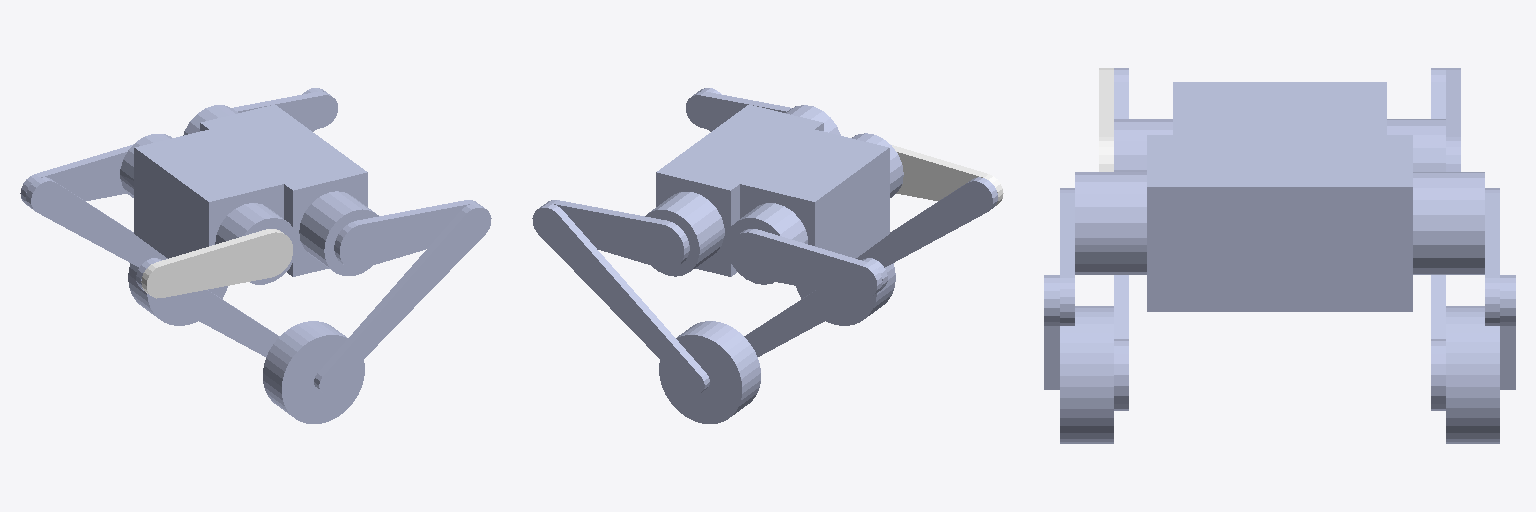
robot.urdf — robot:
<?xml version="1.0" encoding="utf-8"?>
<!-- This URDF was automatically created by SolidWorks to URDF Exporter! Originally created by [author] ([email redacted]) 
     Commit Version: 1.6.0-1-g15f4949  Build Version: 1.6.7594.29634
     For more information, please see http://wiki.ros.org/sw_urdf_exporter -->
<robot
  name="robot">
  <link
    name="base_link">
    <inertial>
      <origin
        xyz="0 0 0"
        rpy="0 0 0" />
      <mass
        value="4.5635" />
      <inertia
        ixx="0.028098"
        ixy="7.1725E-20"
        ixz="-7.933E-17"
        iyy="0.037678"
        iyz="1.8054E-19"
        izz="0.016948" />
    </inertial>
    <visual>
      <origin
        xyz="0 0 0"
        rpy="0 0 0" />
      <geometry>
        <mesh
          filename="package://robot/meshes/base_link.STL" />
      </geometry>
      <material
        name="">
        <color
          rgba="0.79216 0.81961 0.93333 1" />
      </material>
    </visual>
    <collision>
      <origin
        xyz="0 0 0"
        rpy="0 0 0" />
      <geometry>
        <mesh
          filename="package://robot/meshes/base_link.STL" />
      </geometry>
    </collision>
  </link>
  <link
    name="hip2thigh_lf">
    <inertial>
      <origin
        xyz="6.1801E-18 -0.061407 -0.00575"
        rpy="0 0 0" />
      <mass
        value="0.06" />
      <inertia
        ixx="0.00015591"
        ixy="2.9461E-21"
        ixz="-9.3505E-21"
        iyy="1.1351E-05"
        iyz="-7.8953E-19"
        izz="0.00016594" />
    </inertial>
    <visual>
      <origin
        xyz="0 0 0"
        rpy="0 0 0" />
      <geometry>
        <mesh
          filename="package://robot/meshes/hip2thigh_lf.STL" />
      </geometry>
      <material
        name="">
        <color
          rgba="0.79216 0.81961 0.93333 1" />
      </material>
    </visual>
    <collision>
      <origin
        xyz="0 0 0"
        rpy="0 0 0" />
      <geometry>
        <mesh
          filename="package://robot/meshes/hip2thigh_lf.STL" />
      </geometry>
    </collision>
  </link>
  <joint
    name="hip_lf"
    type="continuous">
    <origin
      xyz="0.042425 0.157 0"
      rpy="1.5708 -1.5708 0" />
    <parent
      link="base_link" />
    <child
      link="hip2thigh_lf" />
    <axis
      xyz="0 0 -1" />
  </joint>
  <link
    name="thigh2leg_lf">
    <inertial>
      <origin
        xyz="0 -0.10565 -0.00575"
        rpy="0 0 0" />
      <mass
        value="0.0763" />
      <inertia
        ixx="0.00043722"
        ixy="1.6941E-21"
        ixz="1.9507E-20"
        iyy="7.4436E-06"
        iyz="1.4601E-18"
        izz="0.00044298" />
    </inertial>
    <visual>
      <origin
        xyz="0 0 0"
        rpy="0 0 0" />
      <geometry>
        <mesh
          filename="package://robot/meshes/thigh2leg_lf.STL" />
      </geometry>
      <material
        name="">
        <color
          rgba="0.79216 0.81961 0.93333 1" />
      </material>
    </visual>
    <collision>
      <origin
        xyz="0 0 0"
        rpy="0 0 0" />
      <geometry>
        <mesh
          filename="package://robot/meshes/thigh2leg_lf.STL" />
      </geometry>
    </collision>
  </link>
  <joint
    name="knee_lf"
    type="continuous">
    <origin
      xyz="0 -0.14 -0.0115"
      rpy="0 0 -2.4675" />
    <parent
      link="hip2thigh_lf" />
    <child
      link="thigh2leg_lf" />
    <axis
      xyz="0 0 1" />
  </joint>
  <link
    name="leg2wheel_lf">
    <inertial>
      <origin
        xyz="6.4185E-17 -8.3267E-17 0.02075"
        rpy="0 0 0" />
      <mass
        value="0.52195" />
      <inertia
        ixx="0.00044145"
        ixy="-1.6941E-21"
        ixz="2.0747E-18"
        iyy="0.00044145"
        iyz="-3.3823E-20"
        izz="0.00073308" />
    </inertial>
    <visual>
      <origin
        xyz="0 0 0"
        rpy="0 0 0" />
      <geometry>
        <mesh
          filename="package://robot/meshes/leg2wheel_lf.STL" />
      </geometry>
      <material
        name="">
        <color
          rgba="0.79216 0.81961 0.93333 1" />
      </material>
    </visual>
    <collision>
      <origin
        xyz="0 0 0"
        rpy="0 0 0" />
      <geometry>
        <mesh
          filename="package://robot/meshes/leg2wheel_lf.STL" />
      </geometry>
    </collision>
  </link>
  <joint
    name="foot_lf"
    type="continuous">
    <origin
      xyz="0 -0.24 0"
      rpy="0 0 0.82738" />
    <parent
      link="thigh2leg_lf" />
    <child
      link="leg2wheel_lf" />
    <axis
      xyz="0 0 1" />
  </joint>
  <link
    name="hip2thigh_lb">
    <inertial>
      <origin
        xyz="-2.22041654777272E-18 -0.061407466158819 -0.0057500000000007"
        rpy="0 0 0" />
      <mass
        value="0.0539995474696858" />
      <inertia
        ixx="0.000140314771946862"
        ixy="-7.43235680079296E-21"
        ixz="6.14097015851312E-21"
        iyy="1.02160131007346E-05"
        iyz="6.95243980379891E-19"
        izz="0.000149340545022119" />
    </inertial>
    <visual>
      <origin
        xyz="0 0 0"
        rpy="0 0 0" />
      <geometry>
        <mesh
          filename="package://robot/meshes/hip2thigh_lb.STL" />
      </geometry>
      <material
        name="">
        <color
          rgba="0.792156862745098 0.819607843137255 0.933333333333333 1" />
      </material>
    </visual>
    <collision>
      <origin
        xyz="0 0 0"
        rpy="0 0 0" />
      <geometry>
        <mesh
          filename="package://robot/meshes/hip2thigh_lb.STL" />
      </geometry>
    </collision>
  </link>
  <joint
    name="hip_lb"
    type="continuous">
    <origin
      xyz="-0.052575 0.127 0"
      rpy="1.5708 1.5708 0" />
    <parent
      link="base_link" />
    <child
      link="hip2thigh_lb" />
    <axis
      xyz="0 0 -1" />
  </joint>
  <link
    name="thigh2leg_lb">
    <inertial>
      <origin
        xyz="2.77555756156289E-17 -0.126725289376484 0.00574999999999845"
        rpy="0 0 0" />
      <mass
        value="0.0750000161747868" />
      <inertia
        ixx="0.000553987900915235"
        ixy="-5.84452733605467E-20"
        ixz="1.65199332220617E-20"
        iyy="9.43756802822454E-06"
        iyz="-3.30067461314353E-18"
        izz="0.00056177234358694" />
    </inertial>
    <visual>
      <origin
        xyz="0 0 0"
        rpy="0 0 0" />
      <geometry>
        <mesh
          filename="package://robot/meshes/thigh2leg_lb.STL" />
      </geometry>
      <material
        name="">
        <color
          rgba="0.792156862745098 0.819607843137255 0.933333333333333 1" />
      </material>
    </visual>
    <collision>
      <origin
        xyz="0 0 0"
        rpy="0 0 0" />
      <geometry>
        <mesh
          filename="package://robot/meshes/thigh2leg_lb.STL" />
      </geometry>
    </collision>
  </link>
  <joint
    name="knee_lb"
    type="continuous">
    <origin
      xyz="0 -0.14 0"
      rpy="0 0 2.46746214692248" />
    <parent
      link="hip2thigh_lb" />
    <child
      link="thigh2leg_lb" />
    <axis
      xyz="0 0 1" />
  </joint>
  <link
    name="leg2wheel_lb">
    <inertial>
      <origin
        xyz="-1.15359111152458E-16 -5.55111512312578E-17 -0.0207500000000007"
        rpy="0 0 0" />
      <mass
        value="0.521949966745835" />
      <inertia
        ixx="0.000441450058332931"
        ixy="-1.6940658945086E-21"
        ixz="2.07466425242616E-18"
        iyy="0.000441450058332931"
        iyz="-3.38231691806901E-20"
        izz="0.000733078728294525" />
    </inertial>
    <visual>
      <origin
        xyz="0 0 0"
        rpy="0 0 0" />
      <geometry>
        <mesh
          filename="package://robot/meshes/leg2wheel_lb.STL" />
      </geometry>
      <material
        name="">
        <color
          rgba="0.792156862745098 0.819607843137255 0.933333333333333 1" />
      </material>
    </visual>
    <collision>
      <origin
        xyz="0 0 0"
        rpy="0 0 0" />
      <geometry>
        <mesh
          filename="package://robot/meshes/leg2wheel_lb.STL" />
      </geometry>
    </collision>
  </link>
  <joint
    name="foot_lb"
    type="continuous">
    <origin
      xyz="0 -0.24 0"
      rpy="0 0 -0.965954301349358" />
    <parent
      link="thigh2leg_lb" />
    <child
      link="leg2wheel_lb" />
    <axis
      xyz="0 0 1" />
  </joint>
  <link
    name="hip2thigh_rf">
    <inertial>
      <origin
        xyz="3.85525815338172E-18 -0.061407466158819 0.00575000000000089"
        rpy="0 0 0" />
      <mass
        value="0.0599999613849593" />
      <inertia
        ixx="0.000155906508351339"
        ixy="9.73323749888728E-21"
        ixz="3.73574741794094E-24"
        iyy="1.13512134874171E-05"
        iyz="-1.08504933903155E-18"
        izz="0.000165935222689896" />
    </inertial>
    <visual>
      <origin
        xyz="0 0 0"
        rpy="0 0 0" />
      <geometry>
        <mesh
          filename="package://robot/meshes/hip2thigh_rf.STL" />
      </geometry>
      <material
        name="">
        <color
          rgba="0.792156862745098 0.819607843137255 0.933333333333333 1" />
      </material>
    </visual>
    <collision>
      <origin
        xyz="0 0 0"
        rpy="0 0 0" />
      <geometry>
        <mesh
          filename="package://robot/meshes/hip2thigh_rf.STL" />
      </geometry>
    </collision>
  </link>
  <joint
    name="hip_rf"
    type="continuous">
    <origin
      xyz="0.042425 -0.157 0"
      rpy="1.5708 -1.5708 0" />
    <parent
      link="base_link" />
    <child
      link="hip2thigh_rf" />
    <axis
      xyz="0 0 1" />
  </joint>
  <link
    name="thigh2leg_rf">
    <inertial>
      <origin
        xyz="4.16333634234434E-17 -0.105647585166419 0.00575000000000225"
        rpy="0 0 0" />
      <mass
        value="0.0763000411167858" />
      <inertia
        ixx="0.000437218386664754"
        ixy="-5.84452733605467E-20"
        ixz="2.47571227334978E-20"
        iyy="7.44363321133752E-06"
        iyz="2.37301864809742E-18"
        izz="0.000442980239803142" />
    </inertial>
    <visual>
      <origin
        xyz="0 0 0"
        rpy="0 0 0" />
      <geometry>
        <mesh
          filename="package://robot/meshes/thigh2leg_rf.STL" />
      </geometry>
      <material
        name="">
        <color
          rgba="0.792156862745098 0.819607843137255 0.933333333333333 1" />
      </material>
    </visual>
    <collision>
      <origin
        xyz="0 0 0"
        rpy="0 0 0" />
      <geometry>
        <mesh
          filename="package://robot/meshes/thigh2leg_rf.STL" />
      </geometry>
    </collision>
  </link>
  <joint
    name="knee_rf"
    type="continuous">
    <origin
      xyz="0 -0.14 0.0114999999999986"
      rpy="0 0 -2.46746214692248" />
    <parent
      link="hip2thigh_rf" />
    <child
      link="thigh2leg_rf" />
    <axis
      xyz="0 0 1" />
  </joint>
  <link
    name="leg2wheel_rf">
    <inertial>
      <origin
        xyz="5.55111512312578E-17 -1.2490009027033E-16 -0.0207499999999983"
        rpy="0 0 0" />
      <mass
        value="0.521949966745835" />
      <inertia
        ixx="0.00044145005833293"
        ixy="-6.7762635780344E-20"
        ixz="-9.00265480038554E-19"
        iyy="0.00044145005833293"
        iyz="1.86202171434693E-18"
        izz="0.000733078728294525" />
    </inertial>
    <visual>
      <origin
        xyz="0 0 0"
        rpy="0 0 0" />
      <geometry>
        <mesh
          filename="package://robot/meshes/leg2wheel_rf.STL" />
      </geometry>
      <material
        name="">
        <color
          rgba="0.792156862745098 0.819607843137255 0.933333333333333 1" />
      </material>
    </visual>
    <collision>
      <origin
        xyz="0 0 0"
        rpy="0 0 0" />
      <geometry>
        <mesh
          filename="package://robot/meshes/leg2wheel_rf.STL" />
      </geometry>
    </collision>
  </link>
  <joint
    name="foot_rf"
    type="continuous">
    <origin
      xyz="0 -0.24 0"
      rpy="0 0 -1.15869988791543" />
    <parent
      link="thigh2leg_rf" />
    <child
      link="leg2wheel_rf" />
    <axis
      xyz="0 0 1" />
  </joint>
  <link
    name="hip2thigh_rb">
    <inertial>
      <origin
        xyz="0 0 0"
        rpy="0 0 0" />
      <mass
        value="0" />
      <inertia
        ixx="0"
        ixy="0"
        ixz="0"
        iyy="0"
        iyz="0"
        izz="0" />
    </inertial>
    <visual>
      <origin
        xyz="0 0 0"
        rpy="0 0 0" />
      <geometry>
        <mesh
          filename="package://robot/meshes/hip2thigh_rb.STL" />
      </geometry>
      <material
        name="">
        <color
          rgba="1 1 1 1" />
      </material>
    </visual>
    <collision>
      <origin
        xyz="0 0 0"
        rpy="0 0 0" />
      <geometry>
        <mesh
          filename="package://robot/meshes/hip2thigh_rb.STL" />
      </geometry>
    </collision>
  </link>
  <joint
    name="hip_rb"
    type="continuous">
    <origin
      xyz="-0.0525752889605738 -0.126999999999999 0"
      rpy="1.5707963267949 1.5707963267949 0" />
    <parent
      link="base_link" />
    <child
      link="hip2thigh_rb" />
    <axis
      xyz="0 0 1" />
  </joint>
  <link
    name="thigh2leg_rb">
    <inertial>
      <origin
        xyz="1.38777878078145E-17 -0.126725289376484 -0.00574999999999939"
        rpy="0 0 0" />
      <mass
        value="0.0750000161747868" />
      <inertia
        ixx="0.000553987900915235"
        ixy="4.61632956253594E-20"
        ixz="3.55050933537804E-20"
        iyy="9.43756802822455E-06"
        iyz="-3.08532215205517E-18"
        izz="0.00056177234358694" />
    </inertial>
    <visual>
      <origin
        xyz="0 0 0"
        rpy="0 0 0" />
      <geometry>
        <mesh
          filename="package://robot/meshes/thigh2leg_rb.STL" />
      </geometry>
      <material
        name="">
        <color
          rgba="0.792156862745098 0.819607843137255 0.933333333333333 1" />
      </material>
    </visual>
    <collision>
      <origin
        xyz="0 0 0"
        rpy="0 0 0" />
      <geometry>
        <mesh
          filename="package://robot/meshes/thigh2leg_rb.STL" />
      </geometry>
    </collision>
  </link>
  <joint
    name="knee_rb"
    type="continuous">
    <origin
      xyz="0 -0.14 0"
      rpy="0 0 2.46746214692248" />
    <parent
      link="hip2thigh_rb" />
    <child
      link="thigh2leg_rb" />
    <axis
      xyz="0 0 1" />
  </joint>
  <link
    name="leg2wheel_rb">
    <inertial>
      <origin
        xyz="-8.32667268468867E-17 1.2490009027033E-16 0.020750000000001"
        rpy="0 0 0" />
      <mass
        value="0.521949966745835" />
      <inertia
        ixx="0.00044145005833293"
        ixy="-6.7762635780344E-20"
        ixz="-9.00265480038554E-19"
        iyy="0.00044145005833293"
        iyz="1.86202171434693E-18"
        izz="0.000733078728294525" />
    </inertial>
    <visual>
      <origin
        xyz="0 0 0"
        rpy="0 0 0" />
      <geometry>
        <mesh
          filename="package://robot/meshes/leg2wheel_rb.STL" />
      </geometry>
      <material
        name="">
        <color
          rgba="0.792156862745098 0.819607843137255 0.933333333333333 1" />
      </material>
    </visual>
    <collision>
      <origin
        xyz="0 0 0"
        rpy="0 0 0" />
      <geometry>
        <mesh
          filename="package://robot/meshes/leg2wheel_rb.STL" />
      </geometry>
    </collision>
  </link>
  <joint
    name="foot_rb"
    type="continuous">
    <origin
      xyz="0 -0.24 0"
      rpy="0 0 -2.95203152817059" />
    <parent
      link="thigh2leg_rb" />
    <child
      link="leg2wheel_rb" />
    <axis
      xyz="0 0 1" />
  </joint>
</robot>

--- Render facts (derived) ---
Views: 3 orthographic renders of the robot side by side, from view 1: azimuth 30°, elevation 25°; view 2: azimuth 150°, elevation 25°; view 3: azimuth 270°, elevation 25°.
Model robot with 13 links and 12 joints (12 continuous), rooted at base_link, posed every joint at zero.
Links seen in each view (by area): view 1: base_link, thigh2leg_rf, hip2thigh_rb, hip2thigh_rf, leg2wheel_rf, thigh2leg_lb, thigh2leg_rb, hip2thigh_lb, leg2wheel_rb, hip2thigh_lf, leg2wheel_lf; view 2: base_link, thigh2leg_lf, hip2thigh_lb, hip2thigh_lf, thigh2leg_rb, leg2wheel_lf, thigh2leg_lb, hip2thigh_rb, leg2wheel_lb, hip2thigh_rf, leg2wheel_rb; view 3: base_link, leg2wheel_rf, leg2wheel_lb, leg2wheel_lf, thigh2leg_lb, thigh2leg_rb, hip2thigh_lf, hip2thigh_rf, thigh2leg_lf, thigh2leg_rf, hip2thigh_lb, hip2thigh_rb.
Link boxes in pixels (bbox=[...]): base_link: bbox=[120, 105, 378, 284]; thigh2leg_rf: bbox=[314, 204, 491, 393]; hip2thigh_rb: bbox=[141, 229, 292, 298]; hip2thigh_rf: bbox=[334, 200, 479, 269]; leg2wheel_rf: bbox=[282, 321, 360, 423]; thigh2leg_lb: bbox=[26, 177, 213, 291]; thigh2leg_rb: bbox=[136, 258, 279, 356]; hip2thigh_lb: bbox=[20, 144, 133, 205]; leg2wheel_rb: bbox=[263, 321, 364, 414]; hip2thigh_lf: bbox=[233, 91, 337, 130]; leg2wheel_lf: bbox=[128, 263, 190, 325]; base_link: bbox=[645, 105, 903, 284]; thigh2leg_lf: bbox=[532, 204, 709, 393]; hip2thigh_lb: bbox=[731, 229, 882, 298]; hip2thigh_lf: bbox=[544, 200, 689, 269]; thigh2leg_rb: bbox=[810, 177, 997, 291]; leg2wheel_lf: bbox=[659, 321, 760, 422]; thigh2leg_lb: bbox=[744, 258, 887, 356]; hip2thigh_rb: bbox=[890, 144, 1003, 205]; leg2wheel_lb: bbox=[699, 337, 752, 423]; hip2thigh_rf: bbox=[686, 91, 791, 130]; leg2wheel_rb: bbox=[796, 263, 895, 325]; base_link: bbox=[1075, 82, 1484, 311]; leg2wheel_rf: bbox=[1060, 317, 1113, 443]; leg2wheel_lb: bbox=[1446, 364, 1499, 443]; leg2wheel_lf: bbox=[1446, 306, 1499, 363]; thigh2leg_lb: bbox=[1431, 68, 1445, 410]; thigh2leg_rb: bbox=[1114, 68, 1128, 410]; hip2thigh_lf: bbox=[1485, 188, 1499, 325]; hip2thigh_rf: bbox=[1060, 188, 1074, 325]; thigh2leg_lf: bbox=[1500, 275, 1515, 389]; thigh2leg_rf: bbox=[1044, 275, 1059, 389]; hip2thigh_lb: bbox=[1446, 68, 1460, 171]; hip2thigh_rb: bbox=[1099, 68, 1113, 171].
Bounding box of the posed robot: 0.414 × 0.36 × 0.2553 m (x, y, z).
Meshes: 13 distinct files referenced, 13 mesh visuals loaded (13 binary STL).